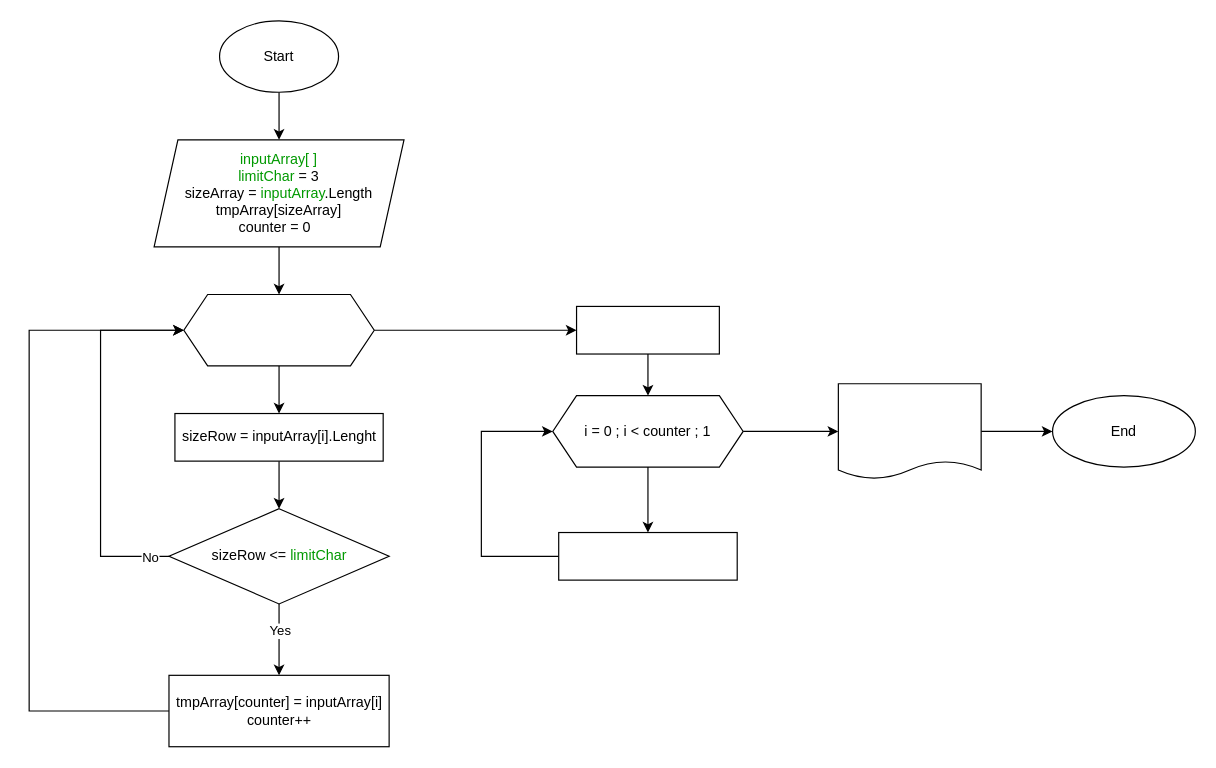
Image size: 1216x768. Some labels were removed from this diagram. The shapes that lost their labels are listed below. From the top down, each one's centre as x and y in pixels, then its label:
At (x=278, y=329): "i = 0 ; i < sizeArray ; 1".
At (x=647, y=329): "outputArray[ counter ]".
At (x=909, y=431): "outputArray[ ]".
At (x=647, y=555): "outputArray[ i ] = tmpArray[i]".
